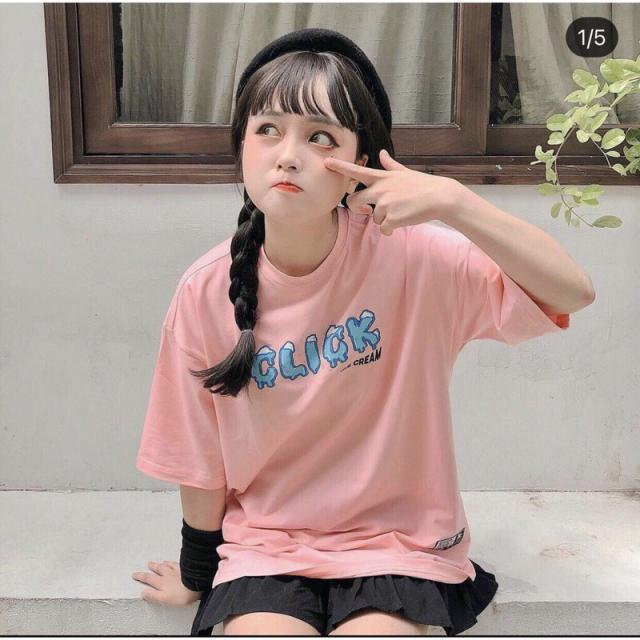Shirt: (130, 190, 577, 588)
